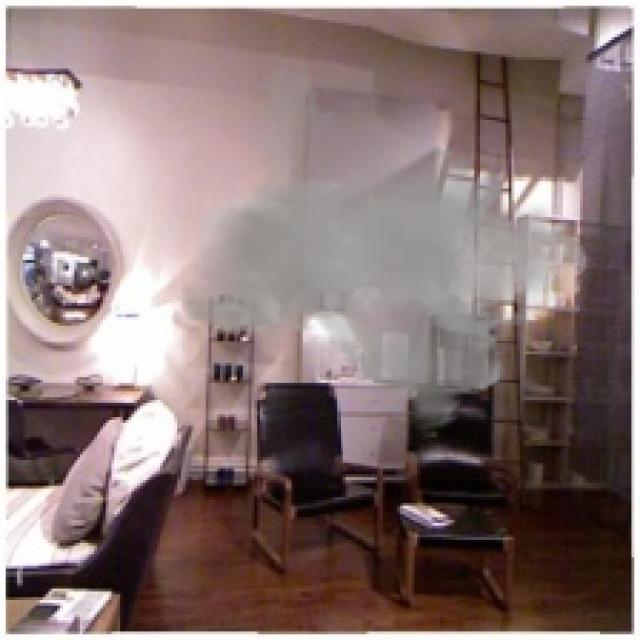Smoke: (177, 54, 589, 440)
